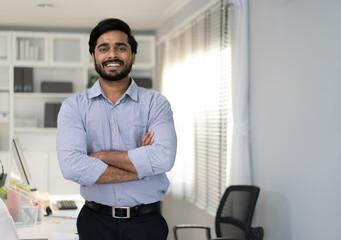Human: (47, 17, 190, 240)
